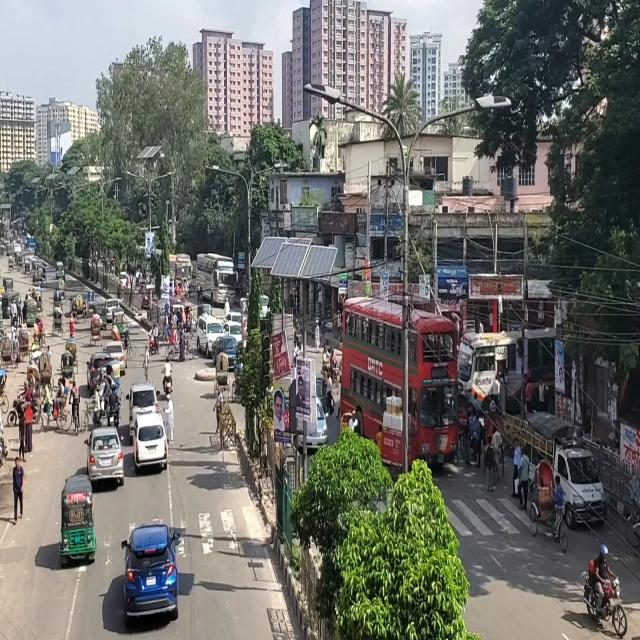silver: (88, 427, 124, 485)
white: (125, 526, 179, 620), (132, 412, 167, 469)
